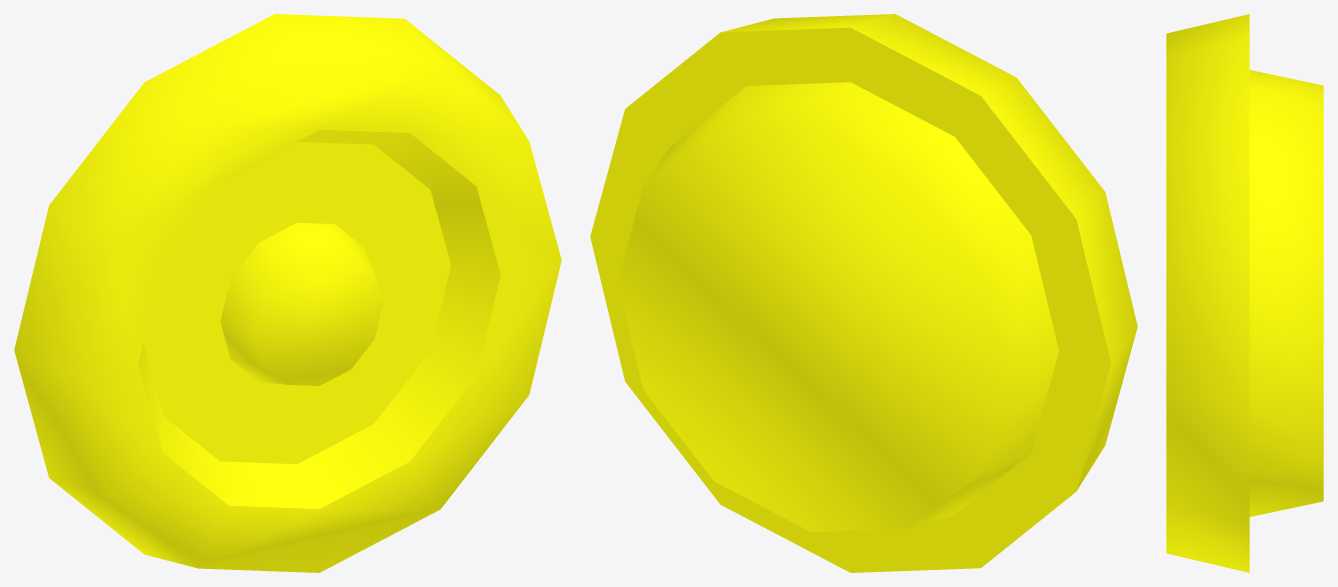
File: 装饰道具_盾牌_圆形.glb
3 views of the same model, side by side, from view 1: azimuth 30°, elevation 25°; view 2: azimuth 150°, elevation 25°; view 3: azimuth 270°, elevation 25° (orthographic). The views are drawn at different scales.
Visible parts, largest first — view 1: shield-round; view 2: shield-round; view 3: shield-round.
Boxes of the visible parts, x1=… form: shield-round: x1=14, y1=14, x2=561, y2=572; shield-round: x1=590, y1=14, x2=1137, y2=572; shield-round: x1=1166, y1=14, x2=1323, y2=572.
Bounding box in the file's own units: 0.3797 × 0.3797 × 0.1065.
1 material, 1 textured.
